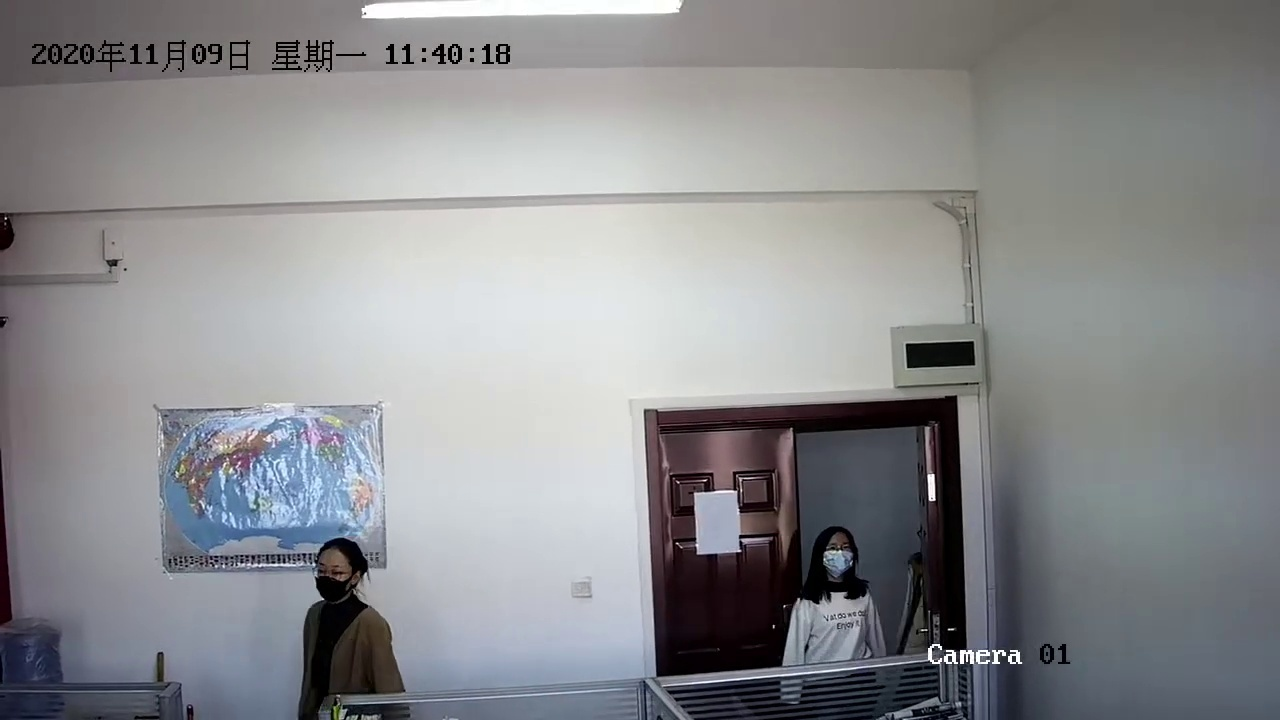mask: (310, 540, 367, 604), (815, 520, 863, 583)
